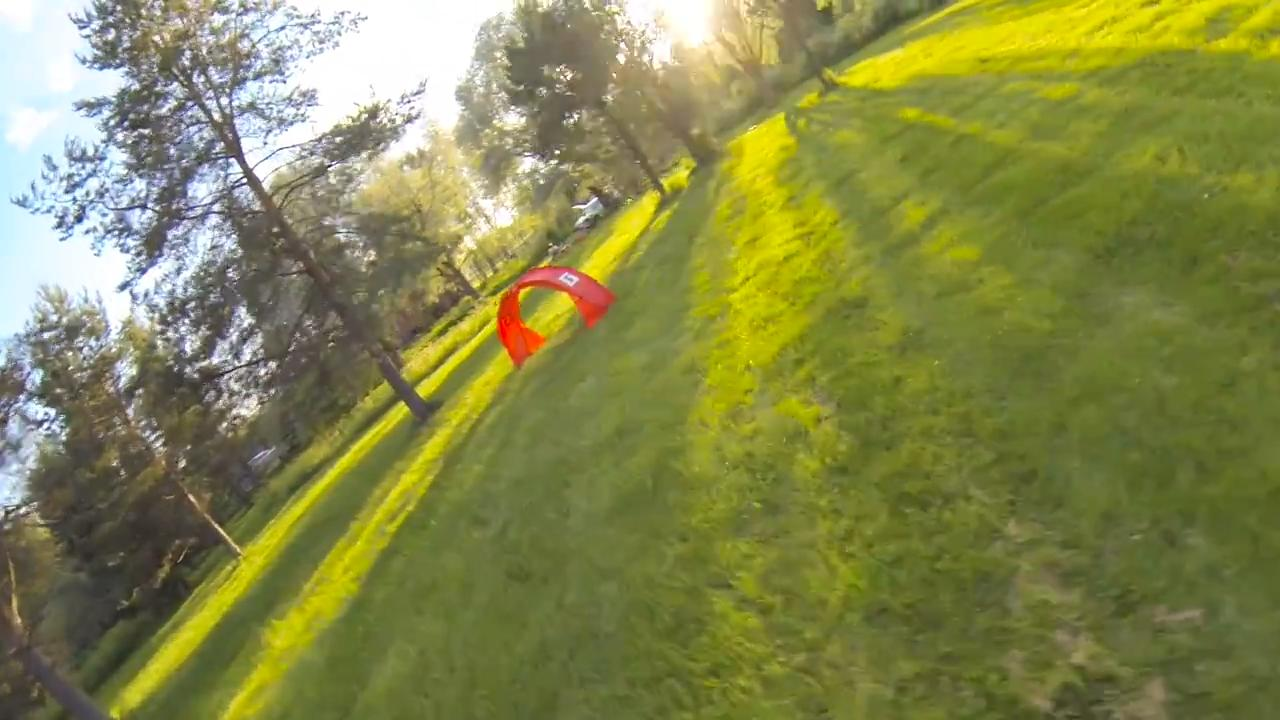gate: (493, 266, 616, 365)
